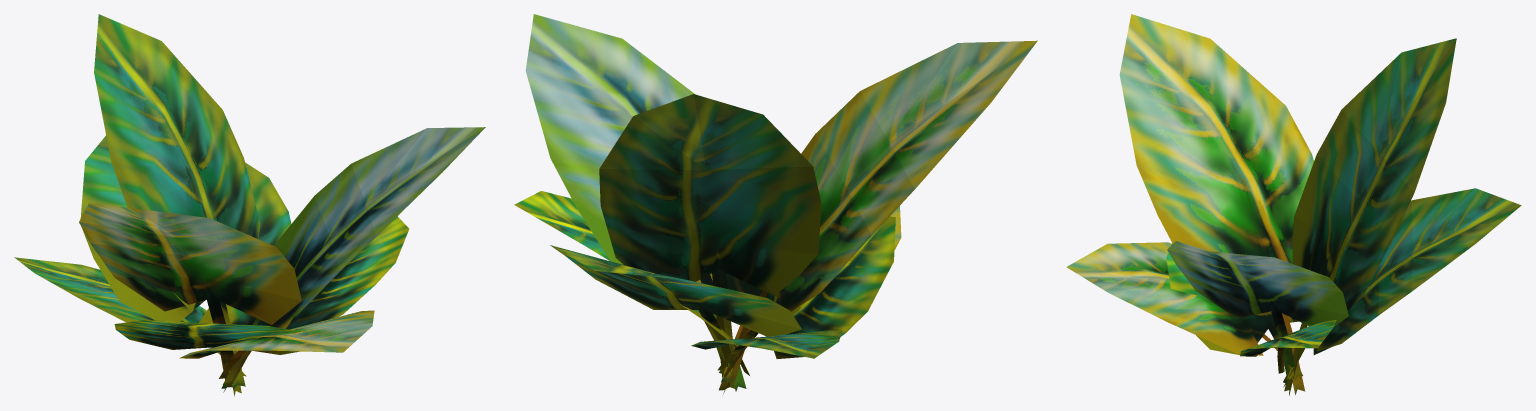
File: Bush1.dae
3 views of the same model, side by side, from view 1: azimuth 30°, elevation 25°; view 2: azimuth 150°, elevation 25°; view 3: azimuth 270°, elevation 25° (orthographic). The views are drawn at different scales.
Parts seen in each view (by area): view 1: Plane_001; view 2: Plane_001; view 3: Plane_001.
Boxes of the visible parts, <box> form: Plane_001: <box>14,14,485,396</box>; Plane_001: <box>514,14,1037,393</box>; Plane_001: <box>1066,14,1521,395</box>.
Size of the model in its own units: 5 by 5 by 4.
